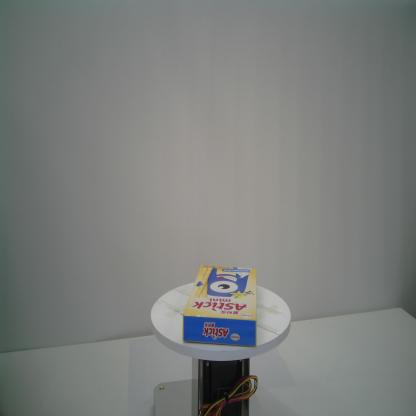Dessert: (180, 263, 258, 350)
